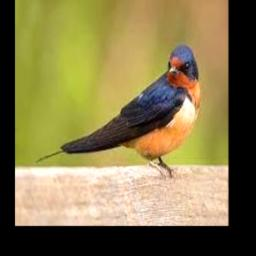Swallow: (36, 45, 202, 179)
